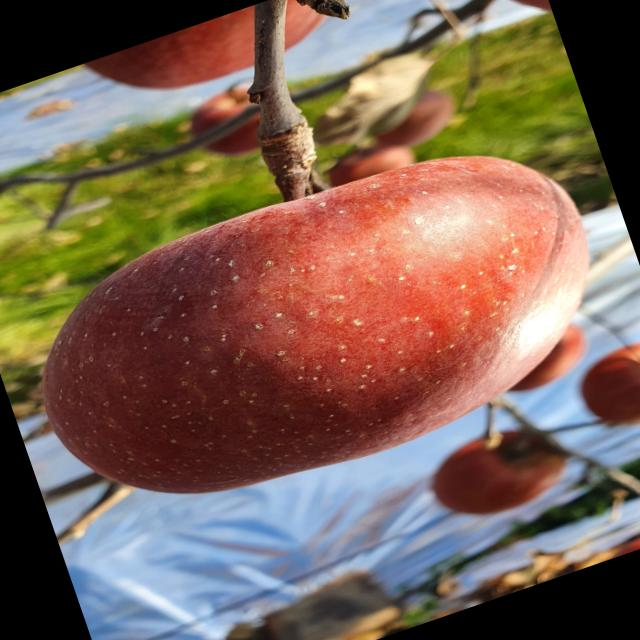fresh: (1, 101, 640, 558)
